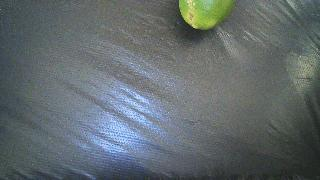DESECHO: (179, 0, 234, 30)
